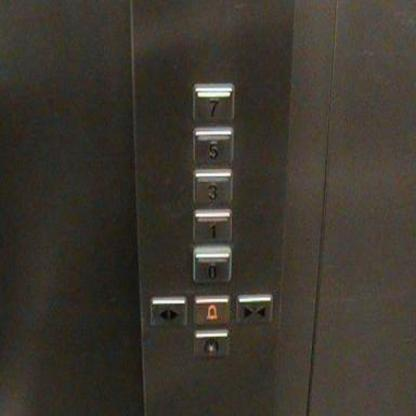0: (191, 245, 233, 283)
1: (191, 209, 233, 242)
3: (192, 168, 232, 206)
5: (192, 128, 233, 166)
7: (192, 82, 234, 123)
alarm: (192, 293, 230, 326)
bt_keyhole: (192, 328, 230, 360)
close: (235, 292, 274, 327)
open: (149, 294, 186, 328)
